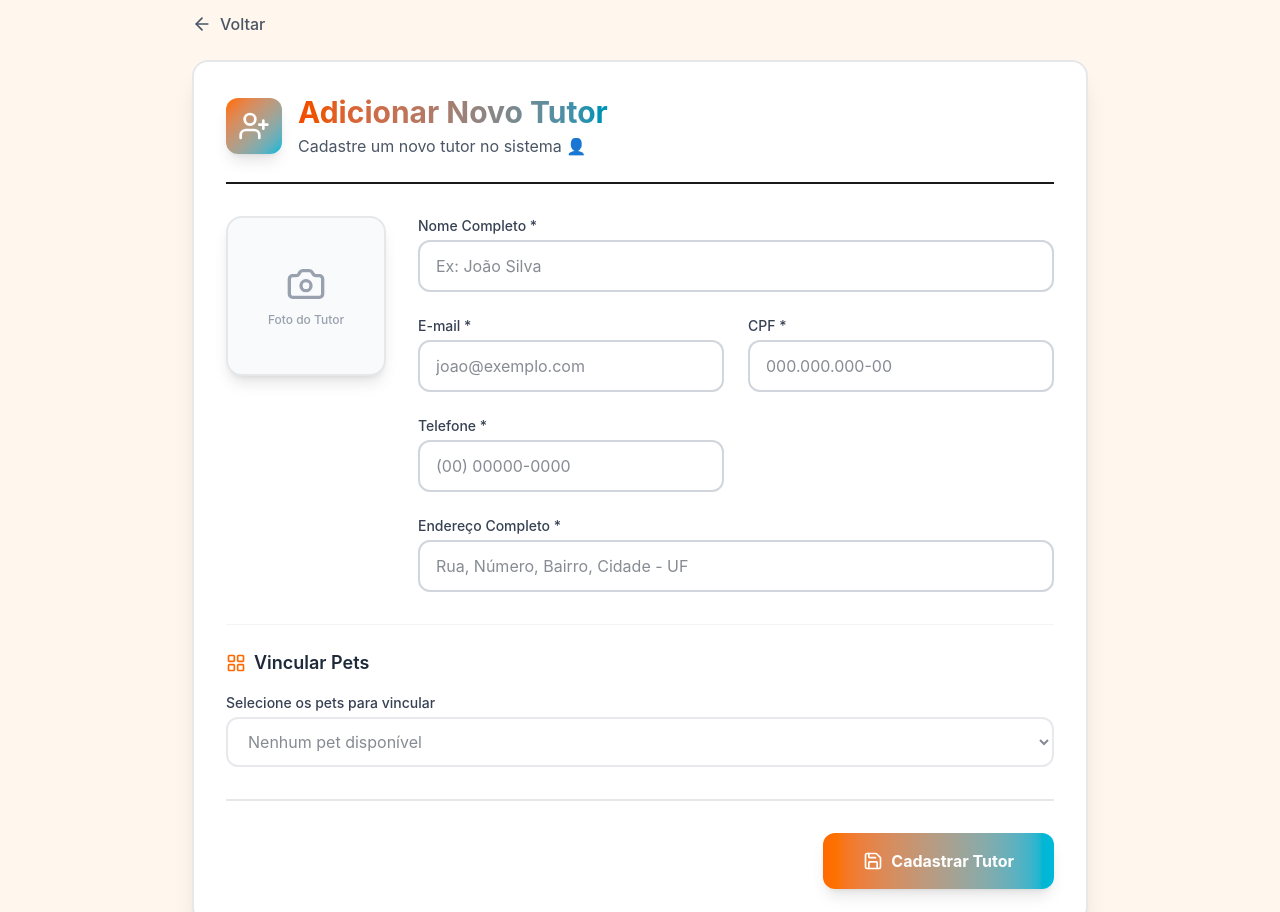
TutorAdd › deve exibir erro para email inválido
The width and height of the screenshot is (1280, 912).
Type "João Silva" into the field labelled "Nome Completo *" at (736, 266), box top-left (418, 240), bottom-right (1054, 292)
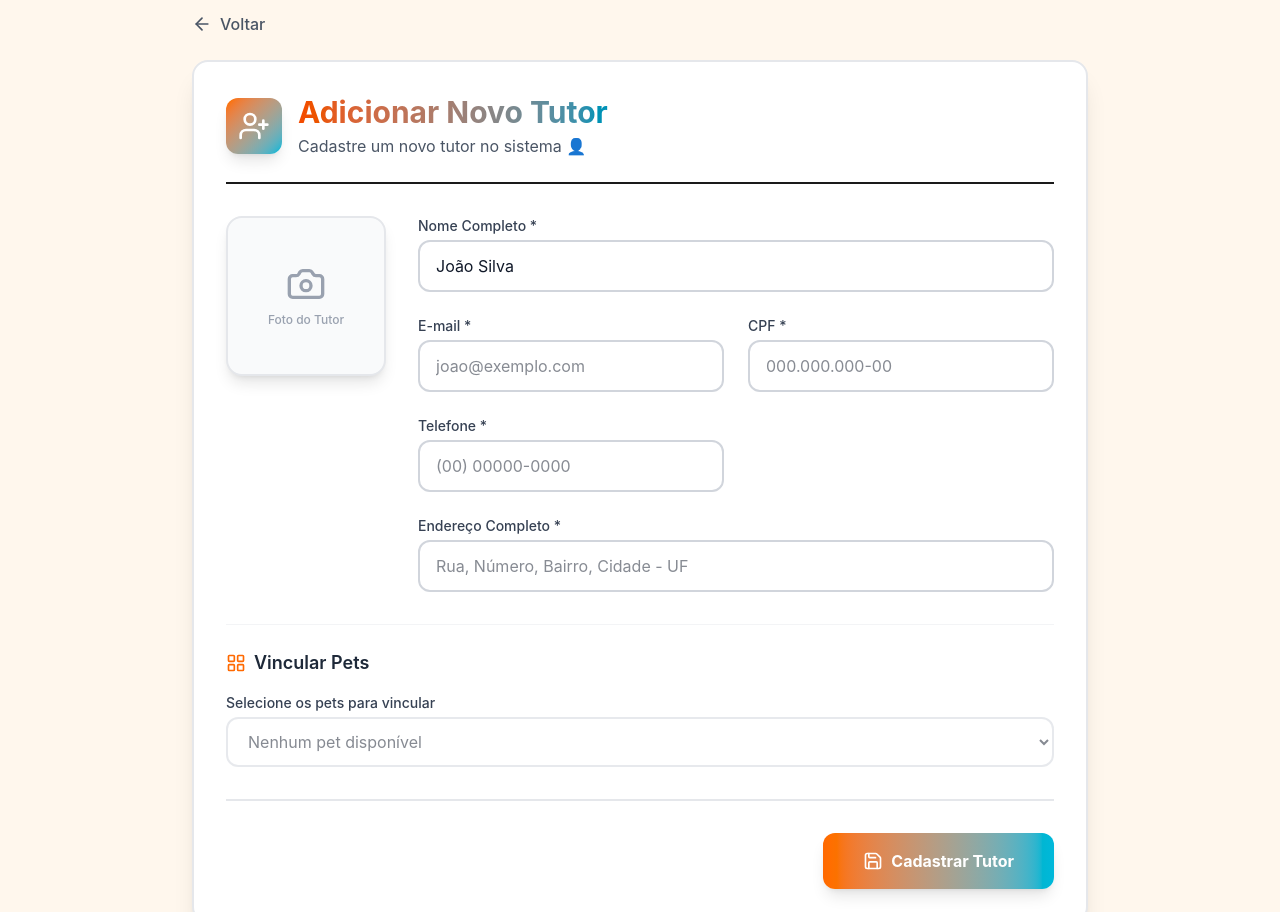
Type "email-invalido" into the field labelled "E-mail *" at (571, 366), box top-left (418, 340), bottom-right (724, 392)
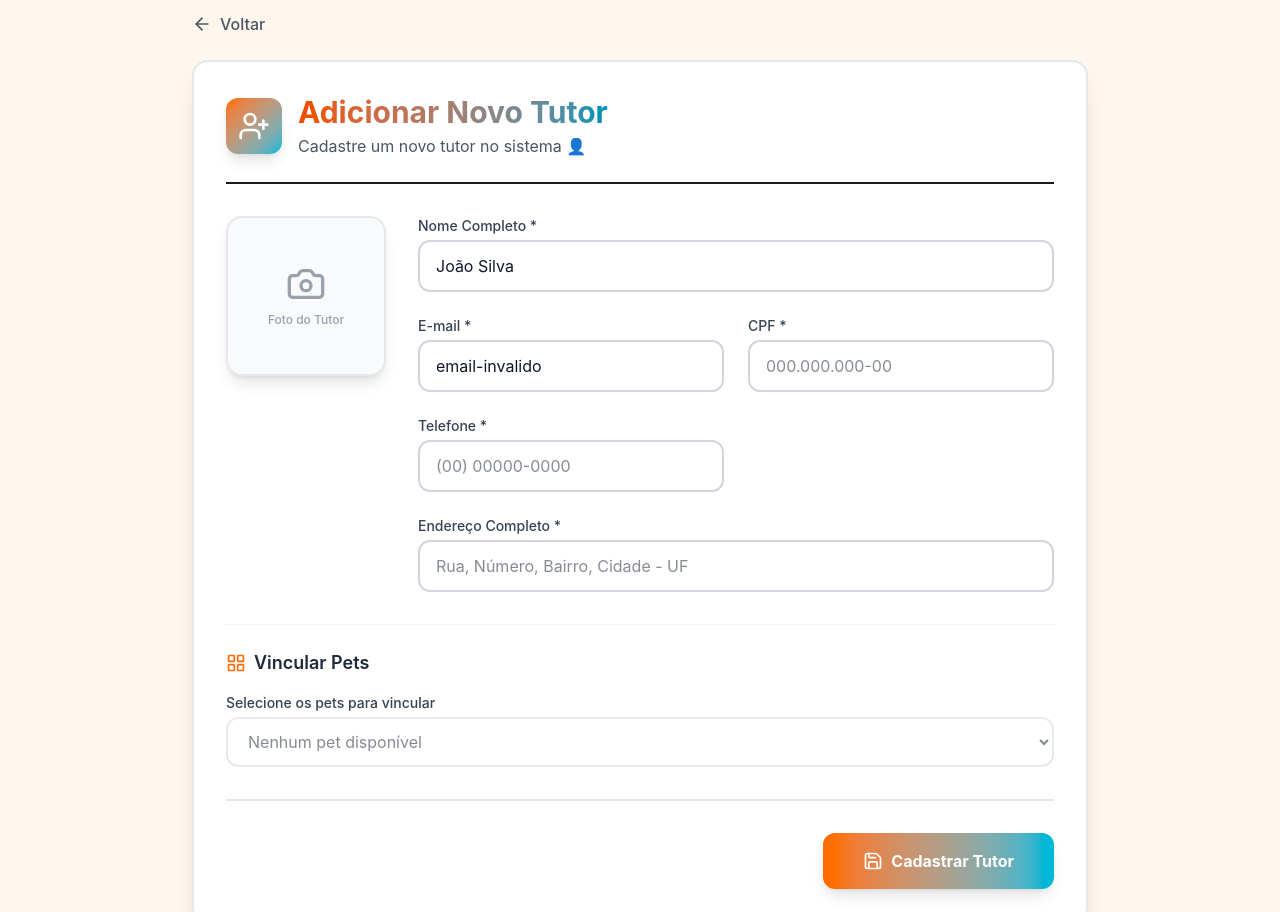
Type "529.982.247-25" into the field labelled "CPF *" at (901, 366), box top-left (748, 340), bottom-right (1054, 392)
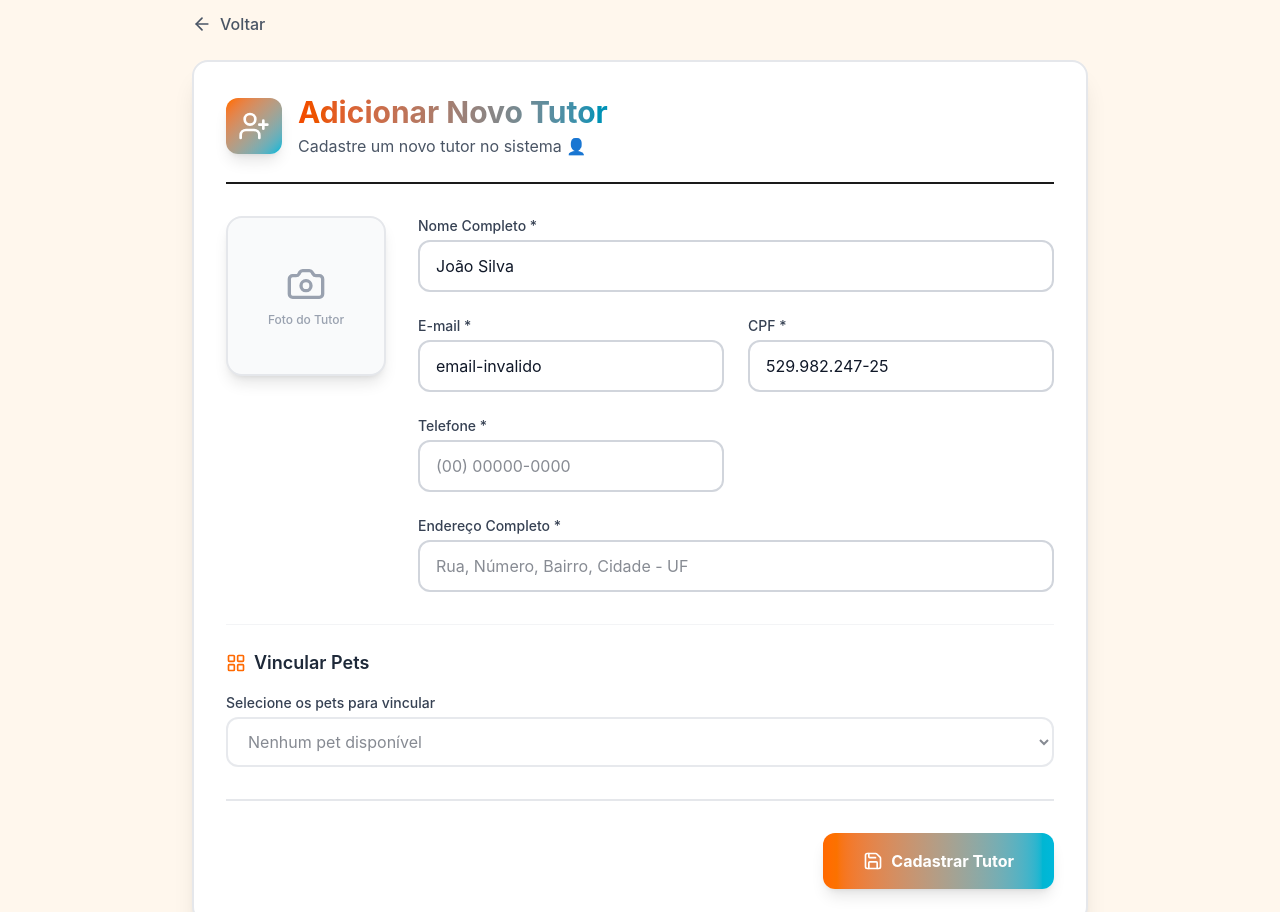
Type "(11) 98888-8888" into the field labelled "Telefone *" at (571, 466), box top-left (418, 440), bottom-right (724, 492)
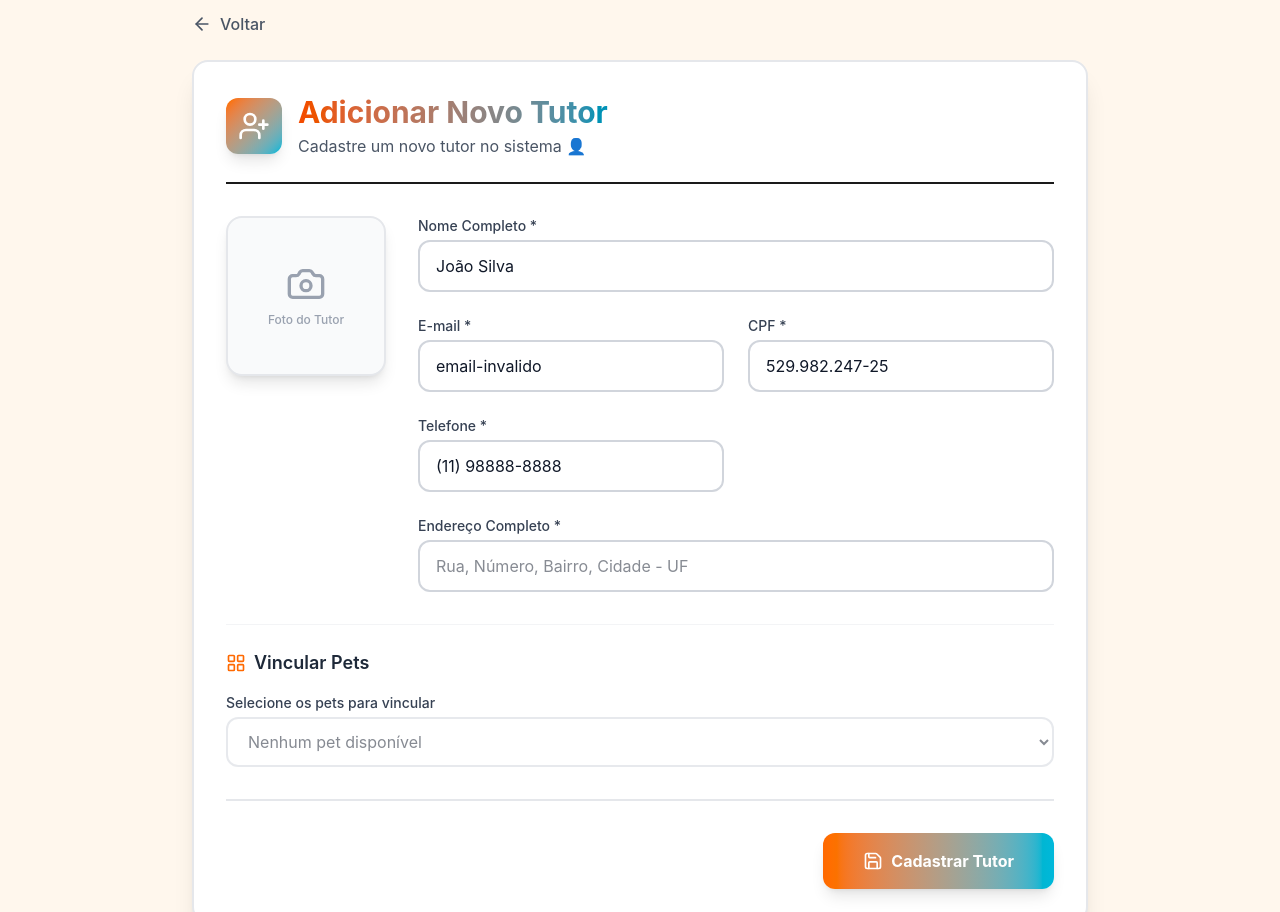
Type "Rua Exemplo, 123" into the field labelled "Endereço Completo *" at (736, 566), box top-left (418, 540), bottom-right (1054, 592)
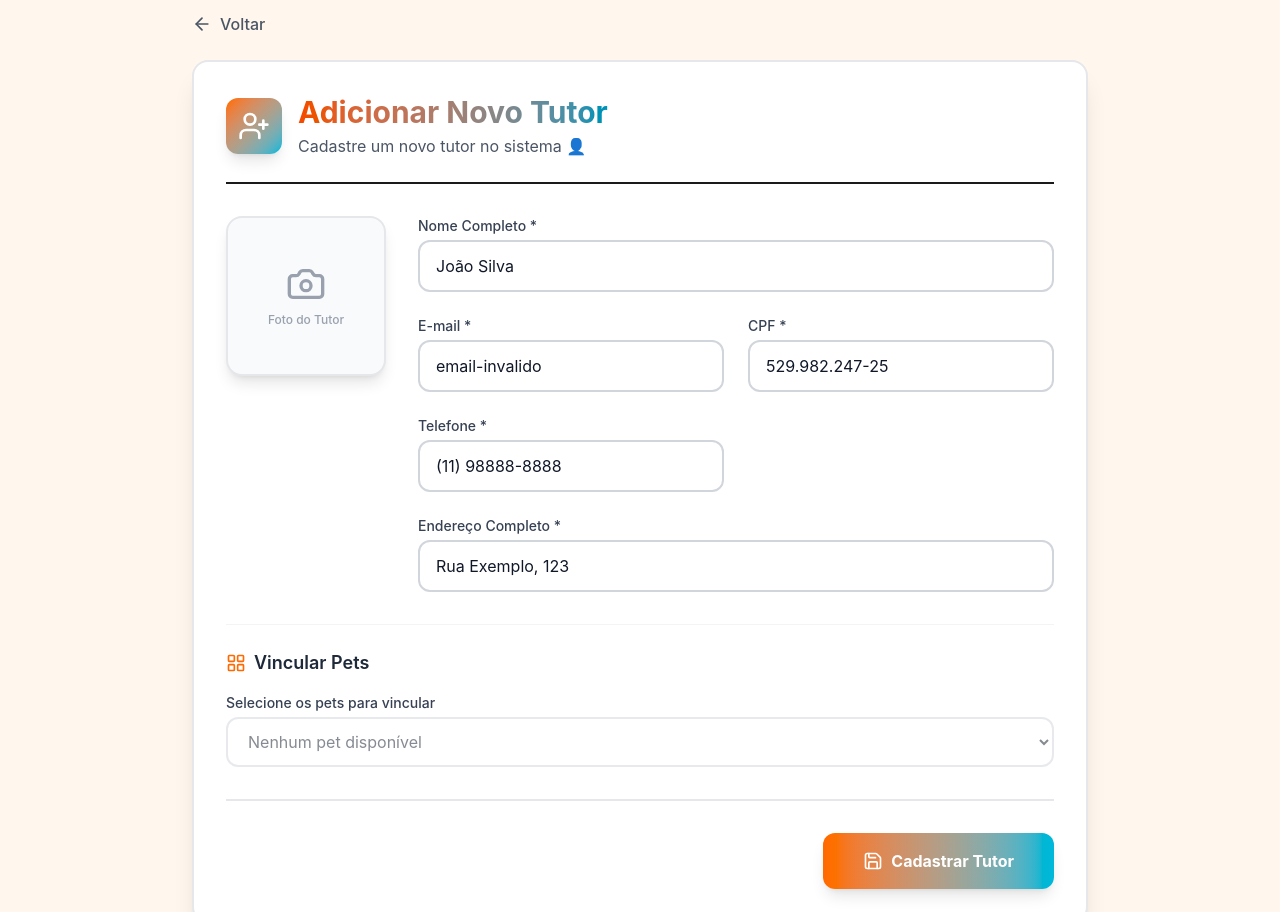
Submit the form, box top-left (226, 216), bottom-right (1054, 889)
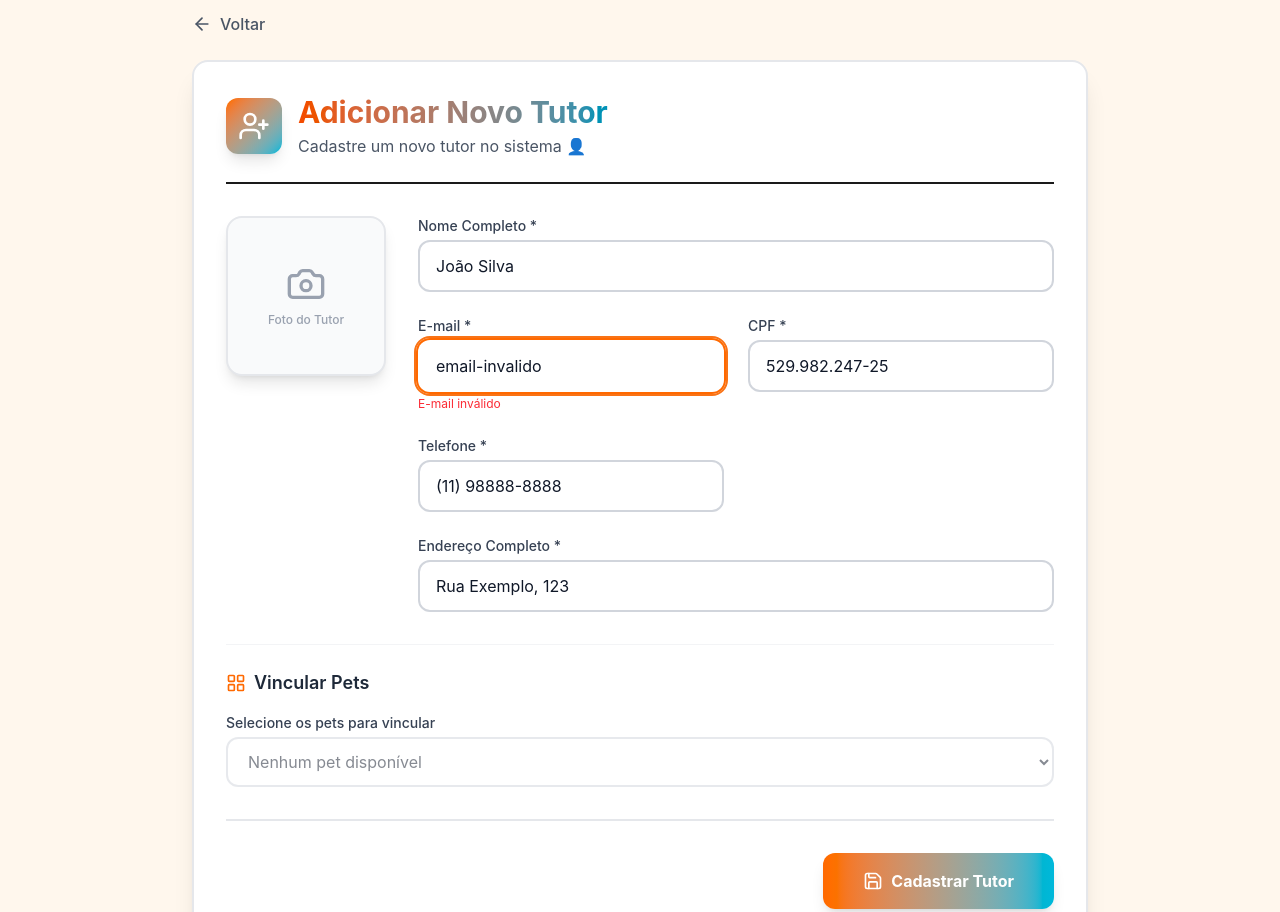
Expected: the text "E-mail inválido" is shown, top-left (418, 396), bottom-right (501, 411)
